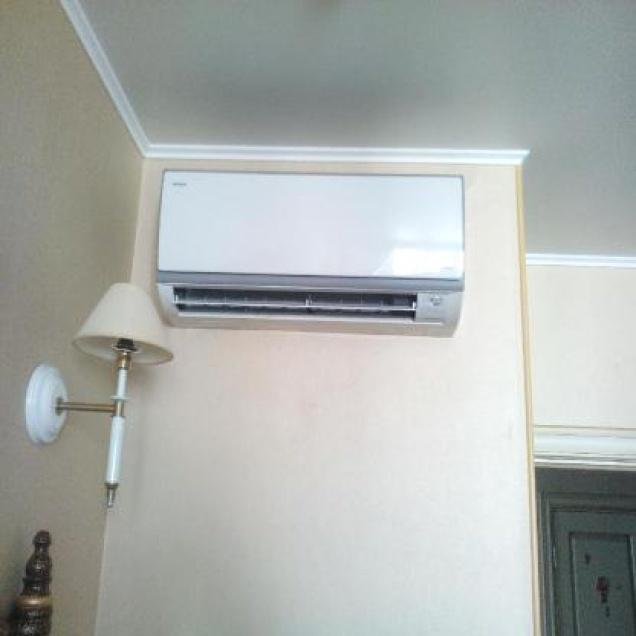AC: (155, 167, 466, 338)
